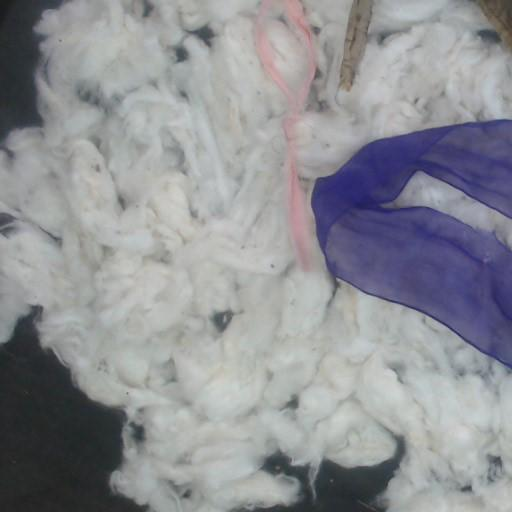cloth: (312, 120, 511, 367), (339, 0, 372, 90)
conveyor belt: (0, 316, 142, 511), (271, 442, 402, 511)
cotton: (0, 0, 511, 511)
